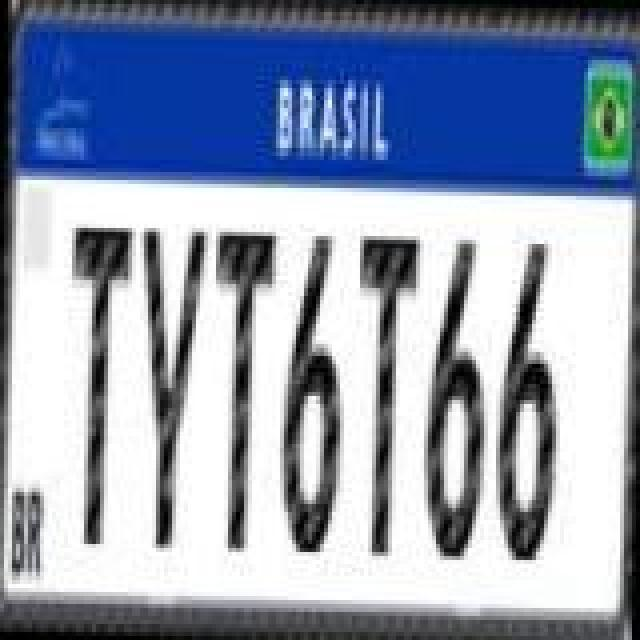6: (416, 230, 492, 566), (272, 226, 348, 558), (488, 234, 564, 566)
T: (202, 224, 274, 556), (346, 228, 418, 560), (58, 220, 130, 548)
Y: (126, 224, 206, 556)
